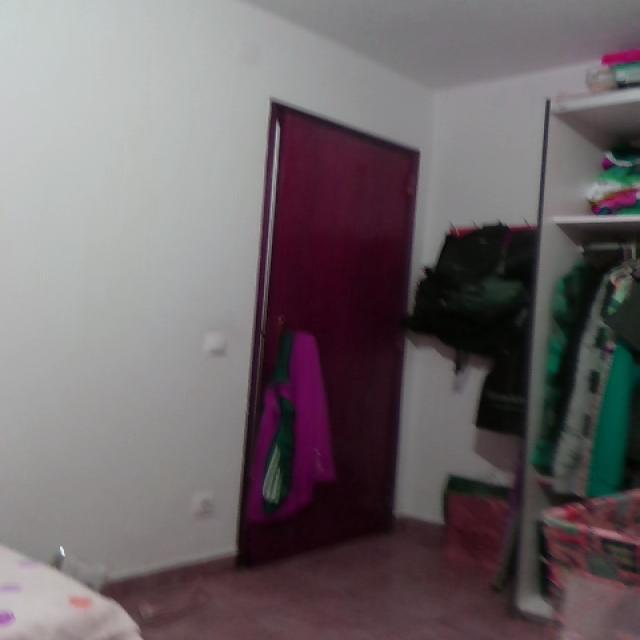door: (236, 88, 425, 559)
